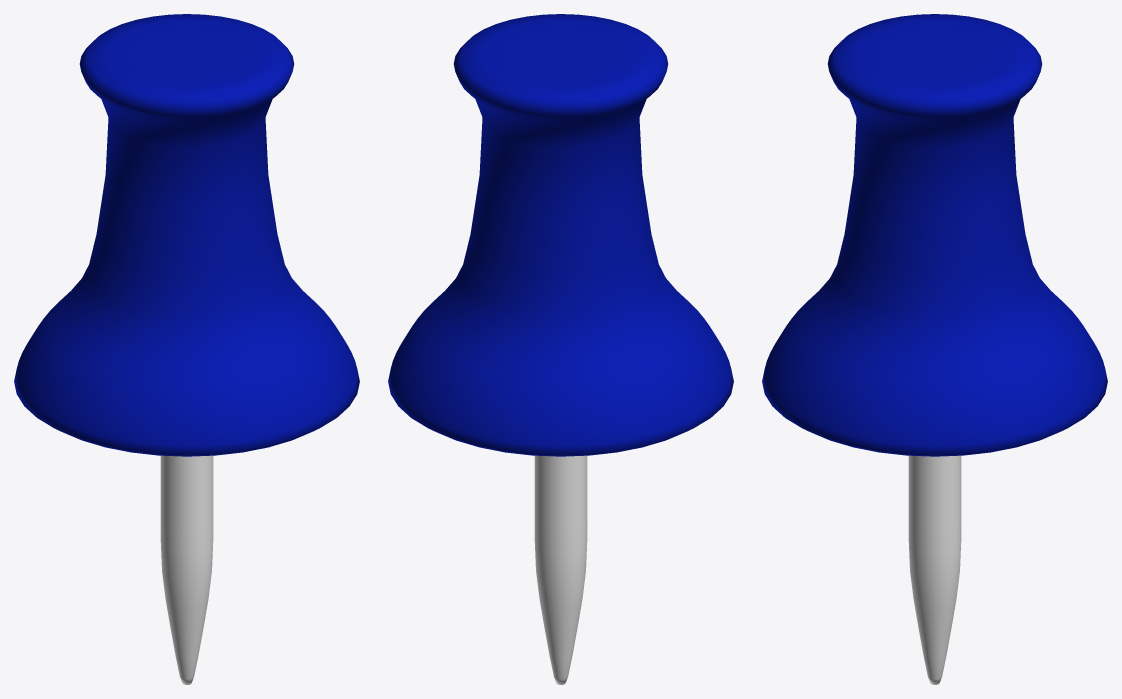
File: Pin.FBX
The picture shows the model from 3 angles, left to right: view 1: azimuth 30°, elevation 25°; view 2: azimuth 150°, elevation 25°; view 3: azimuth 270°, elevation 25°; orthographic projection.
Parts seen in each view (by area): view 1: Cylinder01, Cylinder02; view 2: Cylinder01, Cylinder02; view 3: Cylinder01, Cylinder02.
Boxes of the visible parts, box(x1,y1,x2,y2) form: Cylinder01: box(14, 14, 359, 456); Cylinder02: box(160, 455, 213, 684); Cylinder01: box(388, 14, 733, 456); Cylinder02: box(534, 455, 587, 684); Cylinder01: box(762, 14, 1107, 456); Cylinder02: box(908, 455, 961, 684).
Size of the model in its own units: 46.07 by 92.43 by 46.07.
